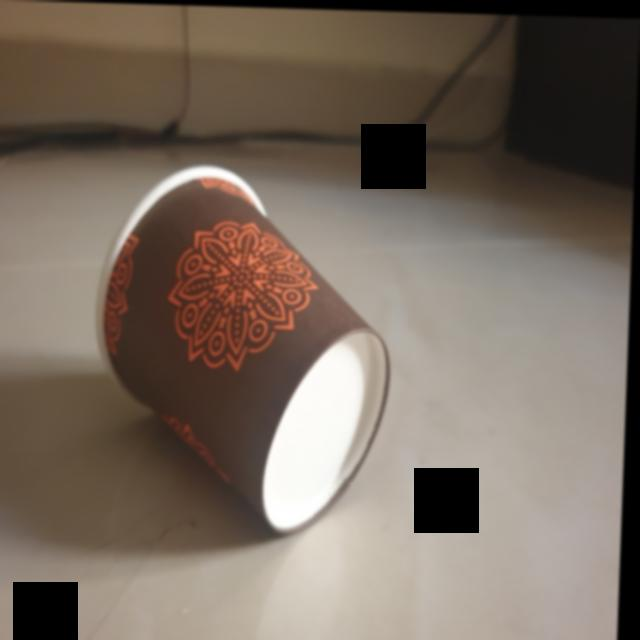cups: (90, 154, 401, 541)
